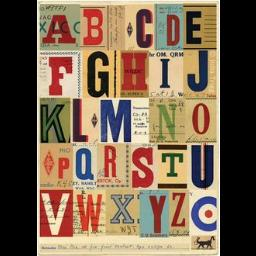b: (82, 8, 102, 46)
c: (134, 8, 154, 50)
d: (165, 14, 179, 46)
e: (184, 10, 202, 44)
f: (48, 56, 72, 96)
g: (86, 50, 108, 98)
h: (120, 52, 146, 90)
i: (159, 58, 171, 90)
j: (186, 50, 208, 92)
k: (40, 104, 66, 142)
l: (70, 98, 88, 142)
m: (99, 99, 131, 143)
o: (190, 102, 210, 136)
p: (56, 157, 68, 179)
q: (74, 148, 94, 180)
r: (102, 146, 116, 178)
s: (130, 147, 154, 189)
t: (159, 152, 183, 178)
u: (190, 145, 214, 189)
x: (108, 194, 134, 224)
y: (146, 194, 166, 234)
z: (170, 192, 186, 228)
